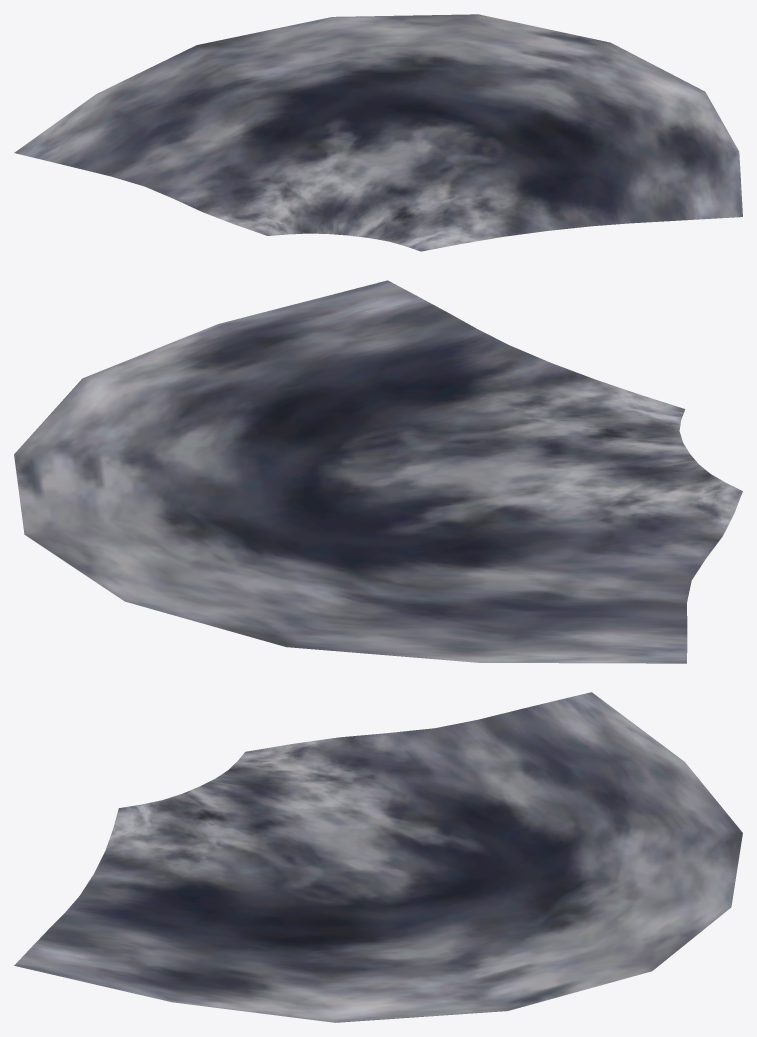
File: CB_NEWPLAYSURFACE_CB_WATERFALLS14.fbx
3 renders of one model, top to bottom at view 1: azimuth 30°, elevation 25°; view 2: azimuth 150°, elevation 25°; view 3: azimuth 270°, elevation 25°, orthographic. The views are drawn at different scales.
Visible parts, largest first — view 1: CB_NEWPLAYSURFACE_CB_WATERFALLS14; view 2: CB_NEWPLAYSURFACE_CB_WATERFALLS14; view 3: CB_NEWPLAYSURFACE_CB_WATERFALLS14.
Boxes of the visible parts, x1,y1,x2,y2 form: CB_NEWPLAYSURFACE_CB_WATERFALLS14: [14, 14, 742, 251]; CB_NEWPLAYSURFACE_CB_WATERFALLS14: [14, 280, 742, 663]; CB_NEWPLAYSURFACE_CB_WATERFALLS14: [14, 692, 742, 1022].
Bounding box in the file's own units: 162699 × 1594 × 151584.
Materials: 1 (1 with a texture image).
